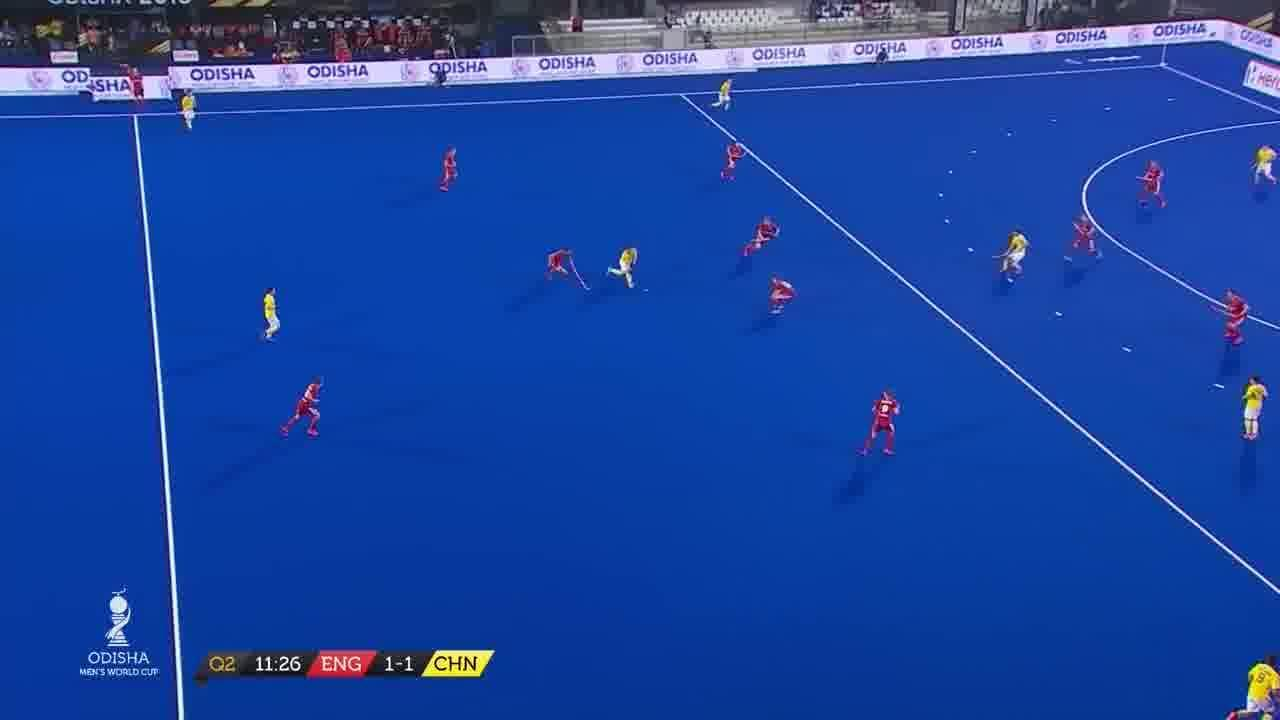ball: (640, 286, 654, 296)
